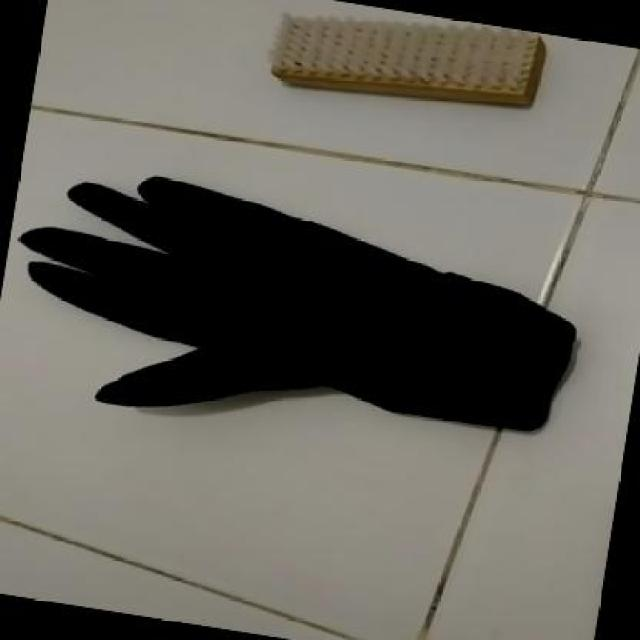gloves: (4, 161, 591, 474)
